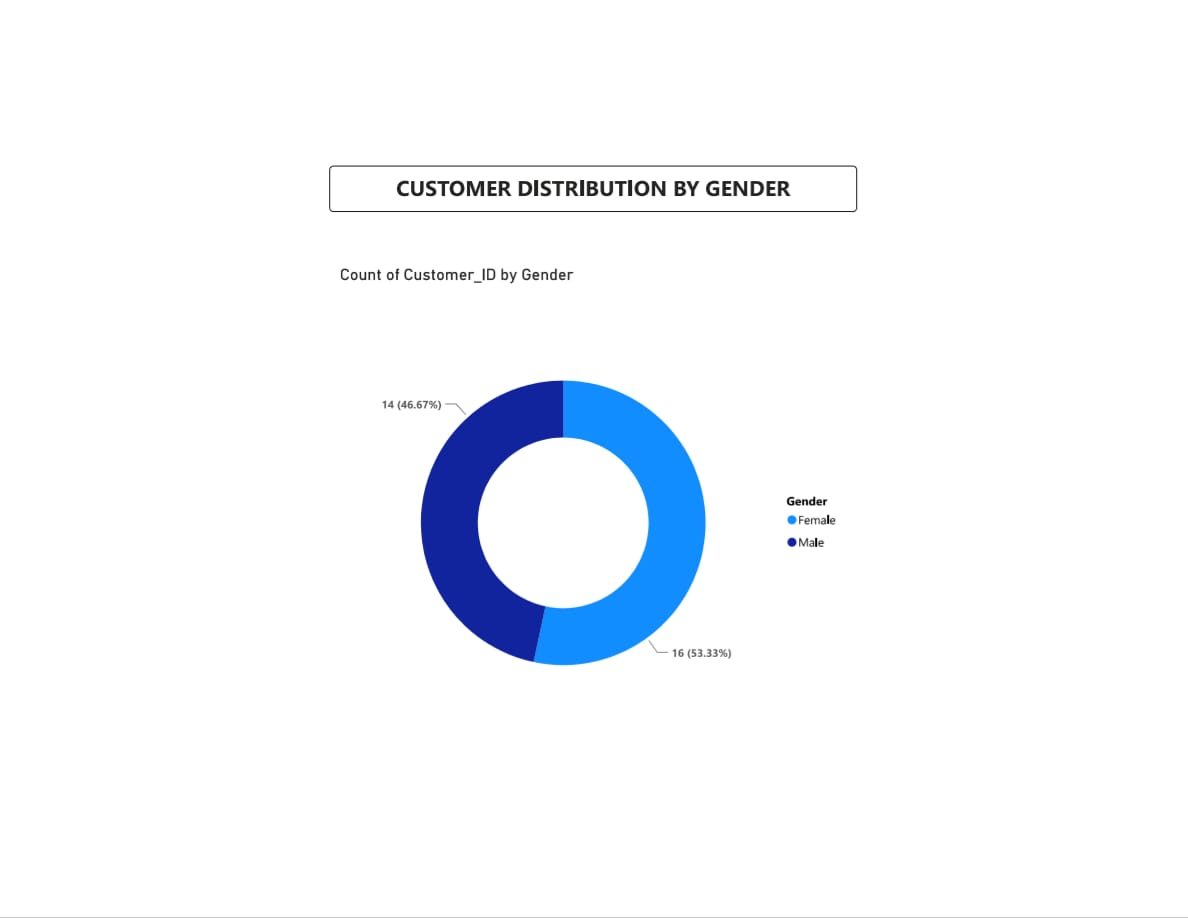

This screenshot's page, from the dashboard's own definition file:
{"tool":"powerbi","page":{"name":"Page 5","canvas":[1280,720],"ordinal":4},"visuals":[{"type":"donutChart","fields":{"Category":["Sheet1.Gender"],"Y":["CountNonNull(Sheet1.Customer_ID)"]},"box":[351.2,143.4,575,545],"z":0},{"type":"textbox","box":[343.9,32.2,590,52],"z":1}]}

Visuals, with their boxes on the page's 1280x720 design canvas (x1, y1, x2, y2). These are canvas units, not pixel positions in the 1188x918 screenshot, which may show the page scaled, cropped or inside an application window:
donutChart - Sheet1.Gender x CountNonNull(Sheet1.Customer_ID): {"left": 351, "top": 143, "right": 926, "bottom": 688}
textbox: {"left": 344, "top": 32, "right": 934, "bottom": 84}
